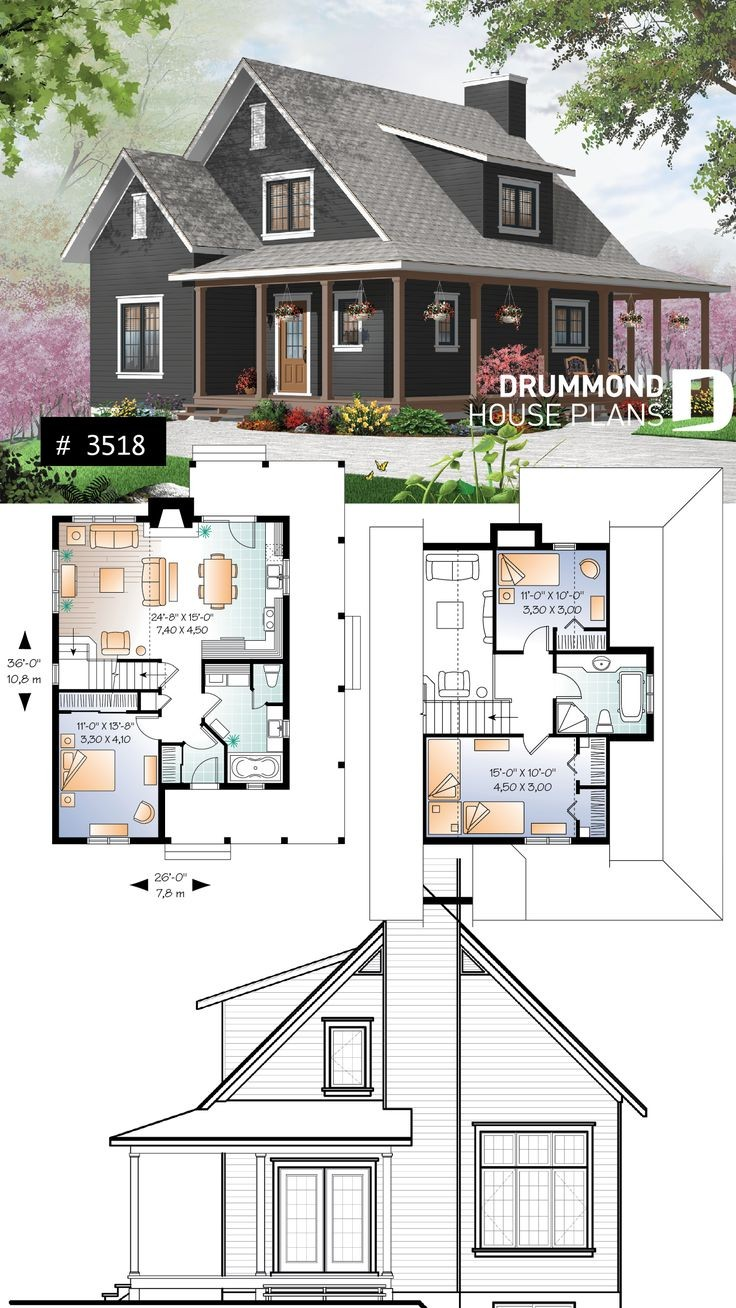room: (433, 550, 671, 742), (423, 728, 615, 862), (171, 648, 307, 794), (53, 694, 175, 856), (155, 518, 299, 648), (489, 652, 675, 750), (53, 520, 167, 668), (489, 538, 625, 658)
